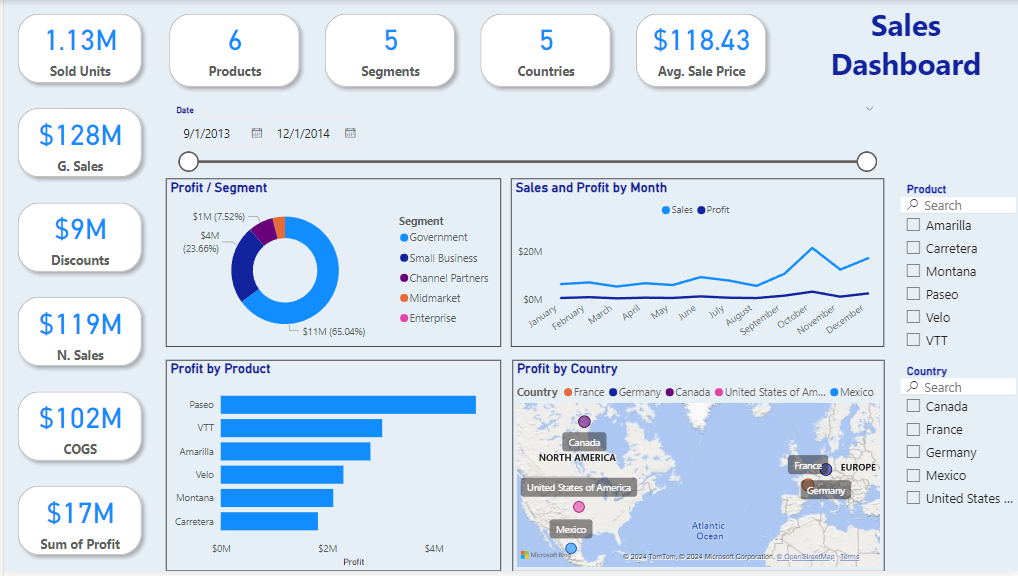

Layout of this report page (visuals, bound fields, positions):
{"tool":"powerbi","page":{"name":"Page 1","canvas":[1280,720],"ordinal":0},"visuals":[{"type":"cardVisual","fields":{"Data":["Sum(financials.Units Sold)","Sum(financials.Gross Sales)","Sum(financials.Discounts)","Sum(financials. Sales)","Sum(financials.COGS)","Sum(financials.Profit)"]},"box":[0,0,190,720],"z":0},{"type":"cardVisual","fields":{"Data":["Count(financials.Product)","Count(financials.Segment)","Count(financials.Country)","Avg(financials.Sale Price)"]},"box":[190.9,0,788,126.6],"z":1000},{"type":"donutChart","title":"Profit / Segment","fields":{"Category":["financials.Segment"],"Y":["Sum(financials.Profit)"]},"box":[204,224,422,212],"z":2000},{"type":"lineChart","title":"Sales and Profit by Month","fields":{"Category":["financials.Month Name"],"Y":["Sum(financials. Sales)","Sum(financials.Profit)"]},"box":[638,224,470,212],"z":3000},{"type":"barChart","fields":{"Category":["financials.Product"],"Y":["Sum(financials.Profit)"]},"box":[204,454,422,266],"z":4000},{"type":"map","title":"Profit by Country","fields":{"Category":["financials.Country"],"Size":["Sum(financials.Profit)"],"Series":["financials.Country"]},"box":[640.6,453.5,468.7,266.5],"z":5000},{"type":"slicer","fields":{"Values":["financials.Country"]},"box":[1124,454,156,252],"z":6000},{"type":"slicer","fields":{"Values":["financials.Product"]},"box":[1124,224,156,230],"z":7000},{"type":"slicer","fields":{"Values":["financials.Date"]},"box":[204,126,904,98],"z":8000},{"type":"textbox","box":[992,0,288,150],"z":9000}]}

Visuals, with their boxes in screenshot pixels (x1, y1, x2, y2), scaled from the page's 1280x720 canvas onto the 1018x576 screenshot:
cardVisual - Sum(financials.Units Sold) x Sum(financials.Gross Sales): x1=0 y1=0 x2=151 y2=575
cardVisual - Count(financials.Product) x Count(financials.Segment): x1=152 y1=0 x2=779 y2=101
"Profit / Segment" donutChart: x1=162 y1=179 x2=498 y2=349
"Sales and Profit by Month" lineChart: x1=507 y1=179 x2=881 y2=349
barChart - financials.Product x Sum(financials.Profit): x1=162 y1=363 x2=498 y2=575
"Profit by Country" map: x1=509 y1=363 x2=882 y2=575
slicer - financials.Country: x1=894 y1=363 x2=1017 y2=565
slicer - financials.Product: x1=894 y1=179 x2=1017 y2=363
slicer - financials.Date: x1=162 y1=101 x2=881 y2=179
textbox: x1=789 y1=0 x2=1017 y2=120
